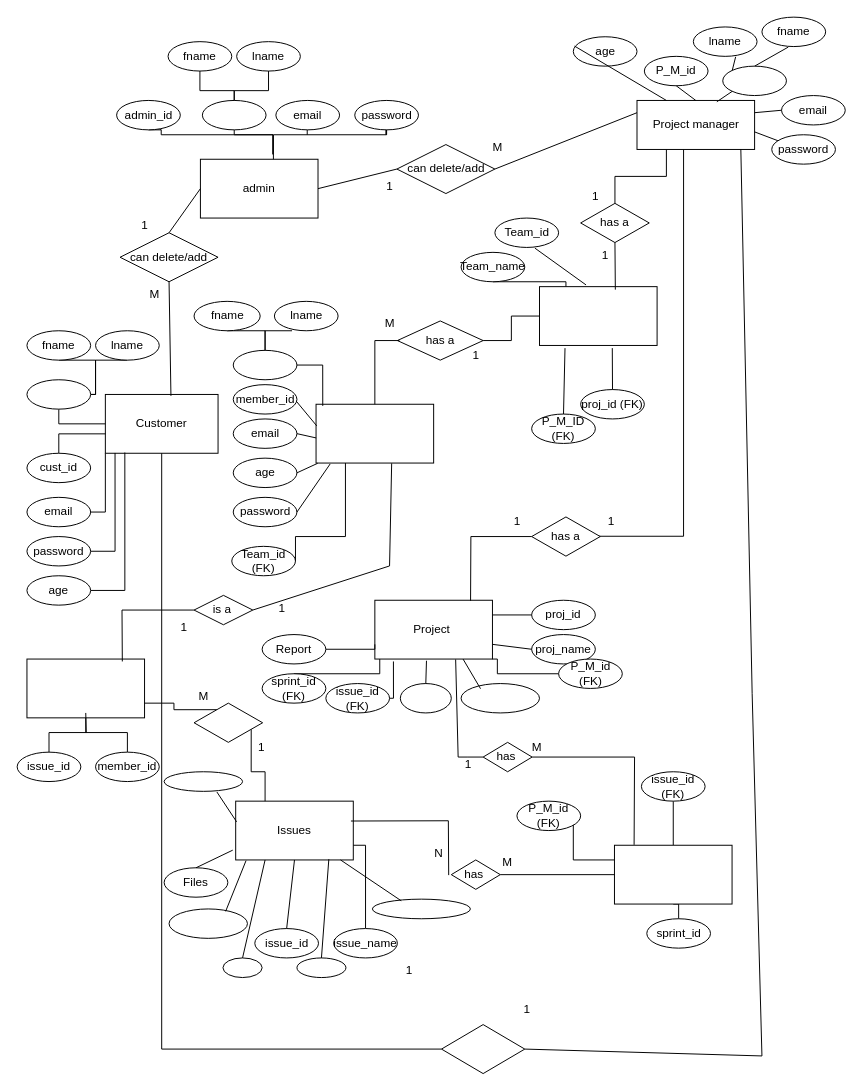
Image size: 862x1091. Some labels were removed from this diagram. The box of each missing label's shape, as (x1, y1, x2, y2) in pixels:
admin_name: (201, 99, 266, 130)
comments: (163, 771, 243, 791)
completion_date: (371, 898, 470, 919)
cust_name: (26, 379, 91, 409)
deals with: (441, 1024, 525, 1074)
handles: (193, 702, 263, 742)
issue_handler: (26, 658, 145, 718)
Iteration_num: (460, 683, 539, 713)
Level_priority: (168, 908, 247, 938)
mem_name: (232, 349, 297, 380)
P_M_name: (722, 65, 786, 96)
sprint: (613, 844, 732, 904)
Status: (296, 957, 346, 978)
Team: (539, 286, 657, 345)
team members: (315, 403, 434, 463)
Type: (222, 957, 262, 978)
Version: (399, 683, 451, 713)
